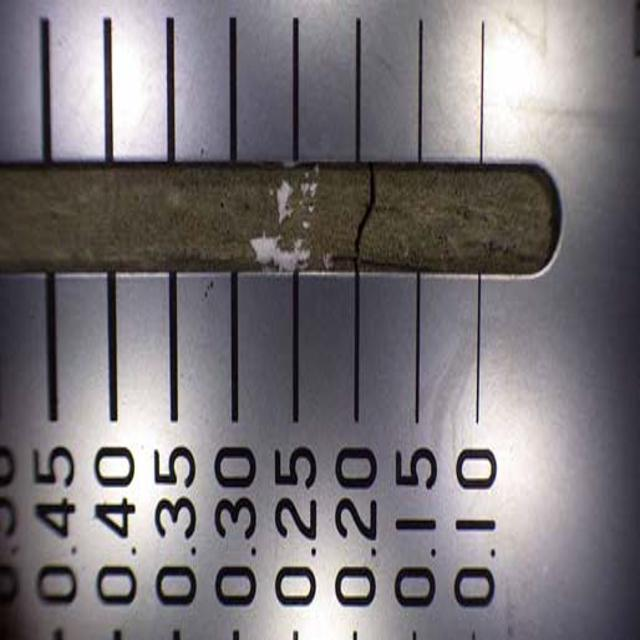crack: (334, 158, 400, 288)
